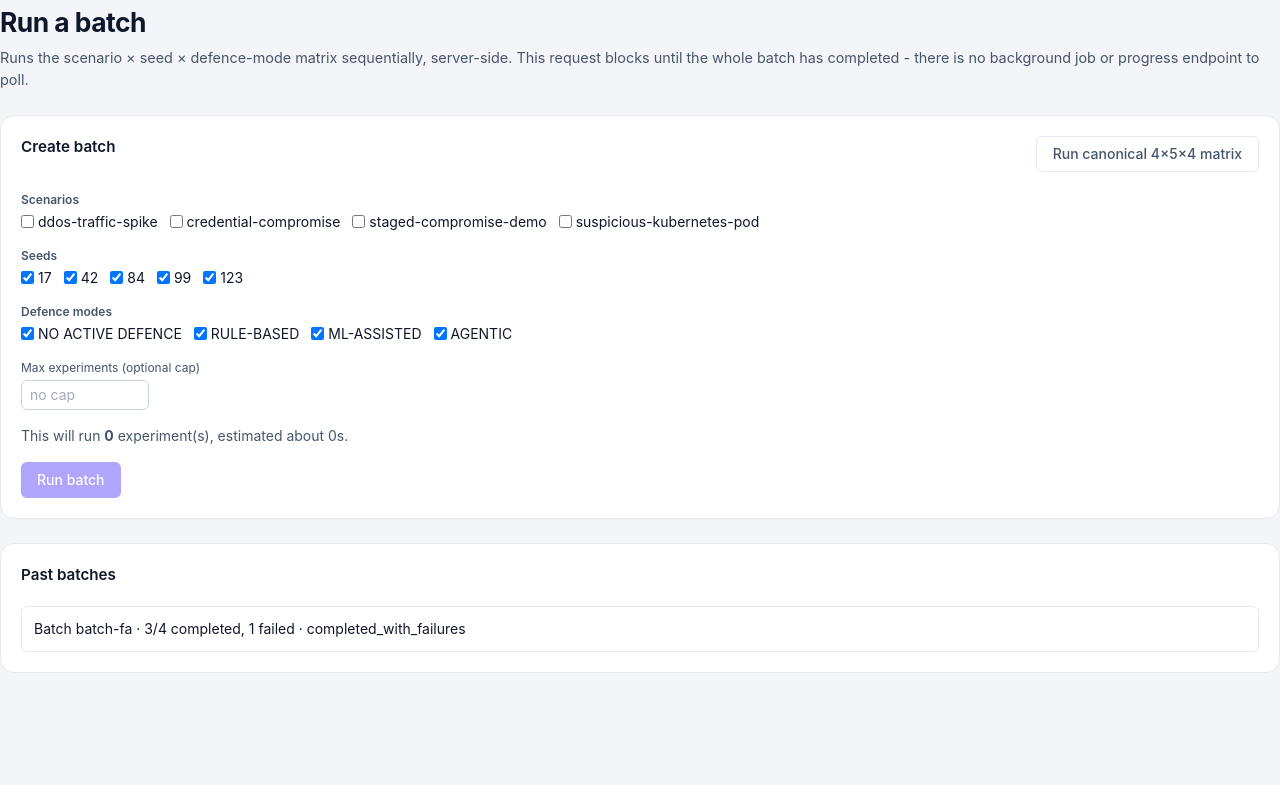
Test: Batches page › renders a completed_with_failures batch non-alarmingly
Click the button that starts with "Batch". click: [55, 629]
box: [21,606,1259,652]
(page scrolled)
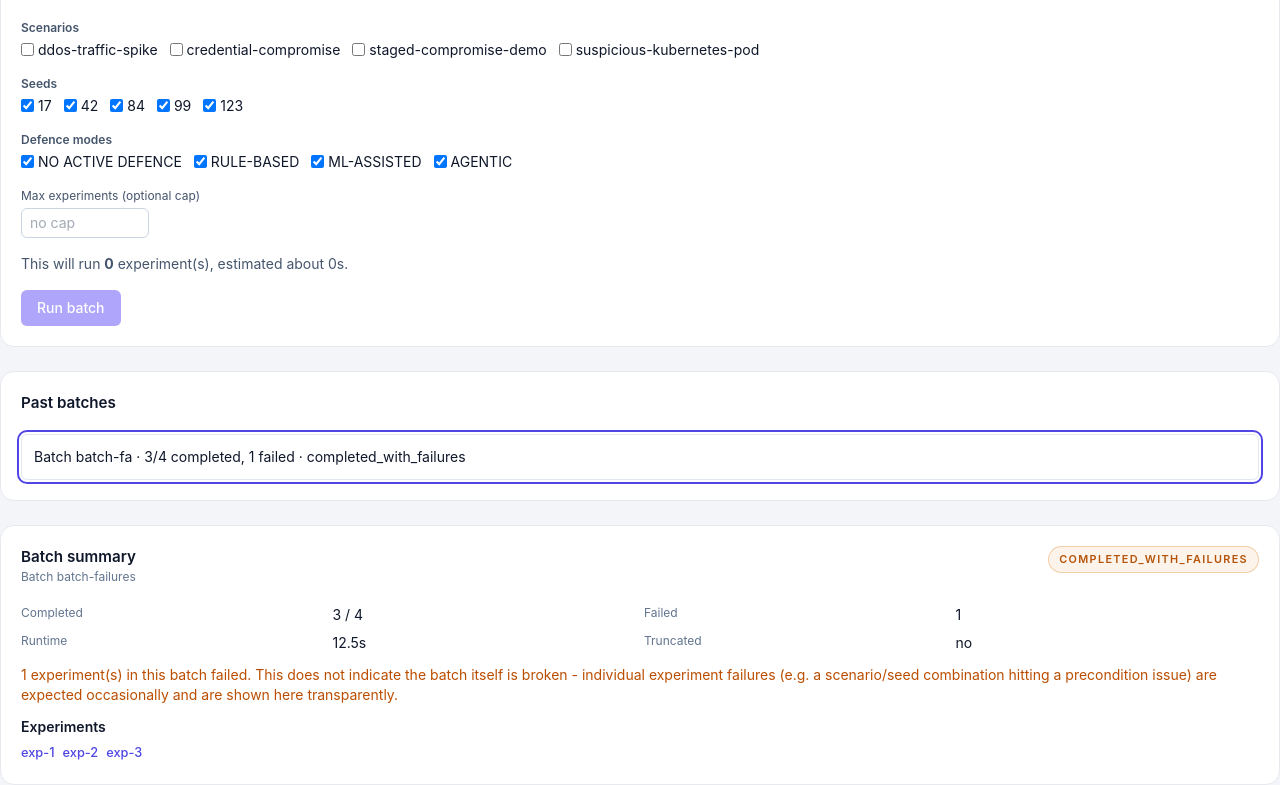
Result: the heading "Batch summary" is shown at [21,546,136,569]
Result: the text "failed. This does not indicate the batch itself is broken" is shown at [21,666,1217,703]
